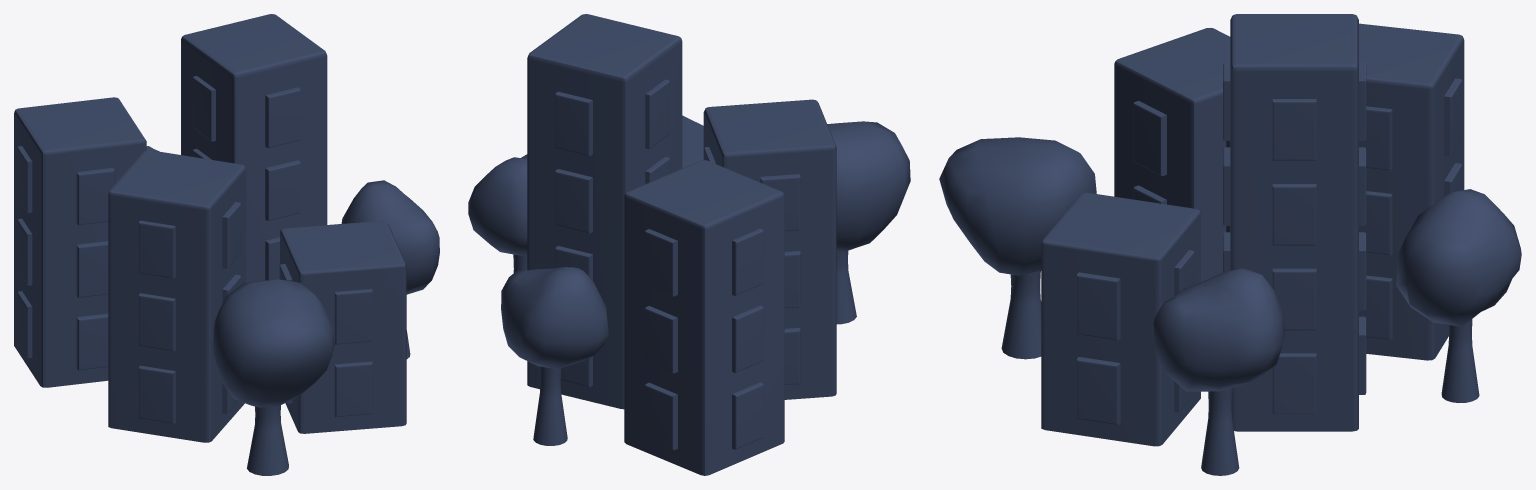
The model's file is City1.fbx.
The picture shows the model from 3 angles, left to right: view 1: azimuth 30°, elevation 25°; view 2: azimuth 150°, elevation 25°; view 3: azimuth 270°, elevation 25°; orthographic projection. The views are drawn at different scales.
Parts seen in each view (by area): view 1: City1; view 2: City1; view 3: City1.
Part boxes in pixels (x1=…): City1: x1=14, y1=14, x2=439, y2=475; City1: x1=468, y1=14, x2=910, y2=475; City1: x1=939, y1=14, x2=1521, y2=475.
Bounding box in the file's own units: 2.84 × 2.54 × 3.64.
